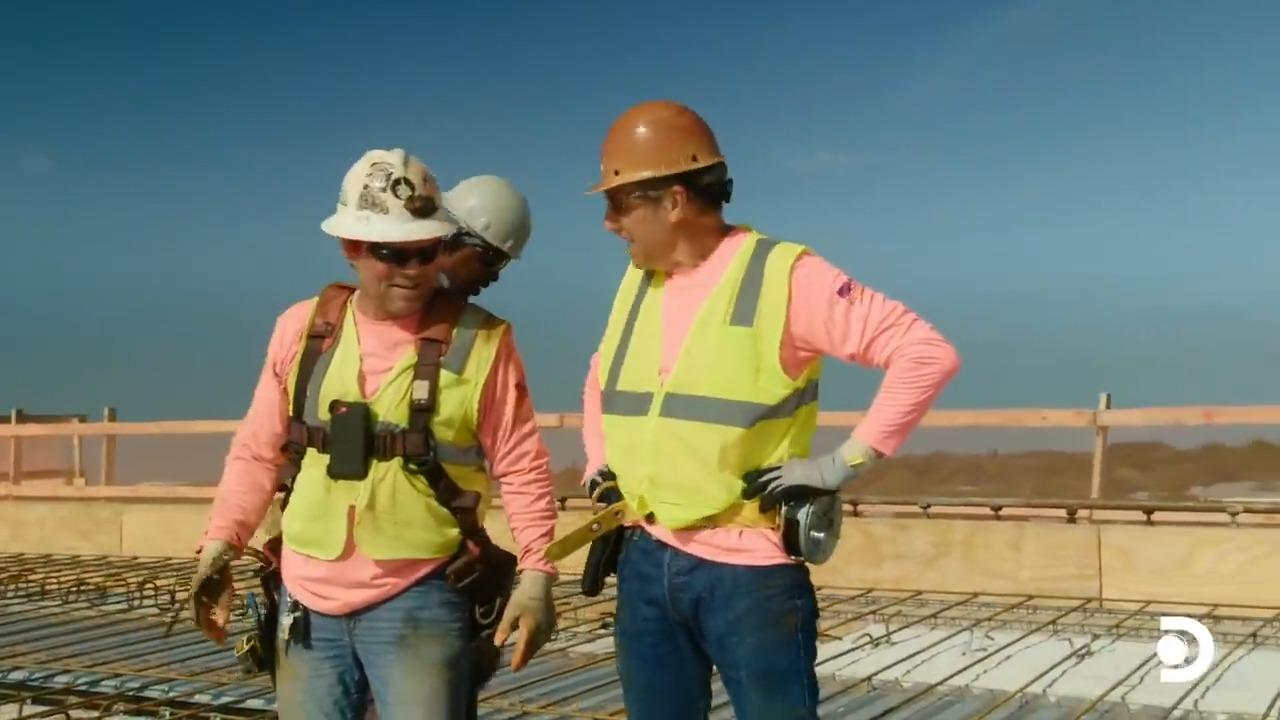Gloves: (746, 444, 863, 518), (489, 568, 561, 663), (173, 543, 245, 632)
Helmet: (584, 99, 726, 196), (319, 146, 459, 243), (439, 173, 531, 260)
Person: (578, 98, 961, 719), (189, 147, 559, 719)
Safety Vest: (296, 315, 497, 577), (615, 288, 812, 536)
